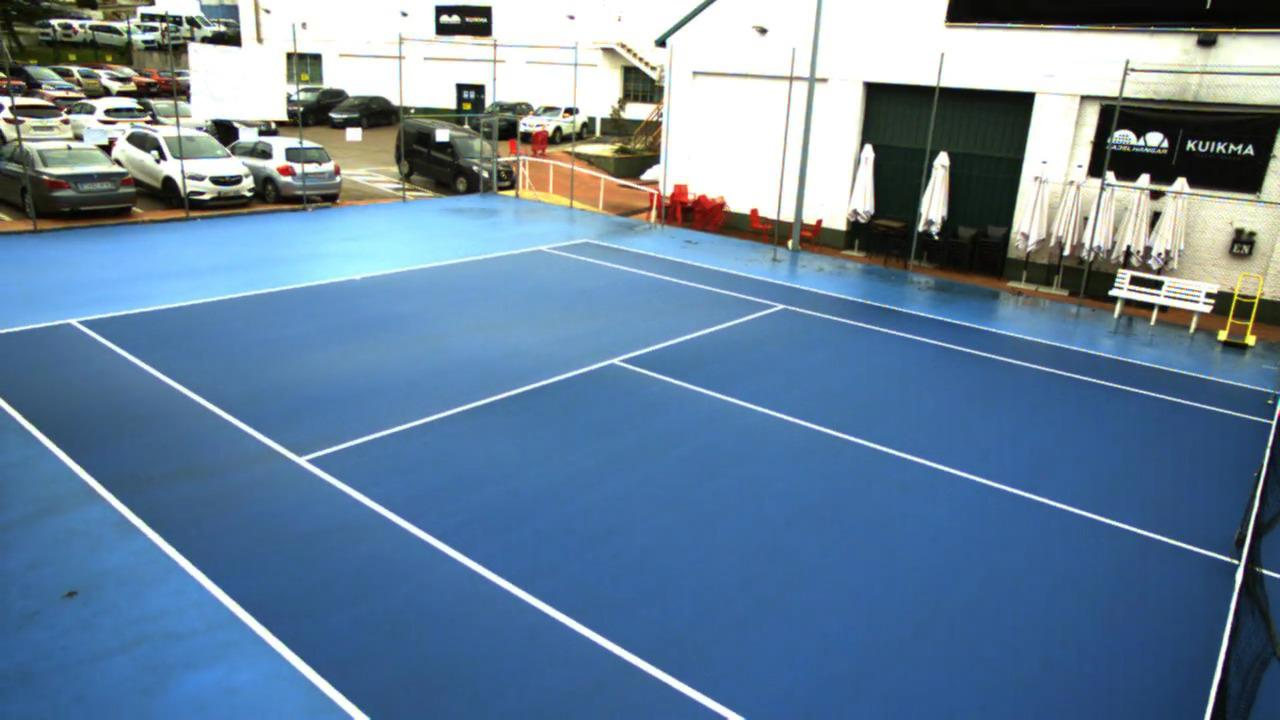cancha_tenis: (68, 246, 1280, 720)
point_f1: (63, 307, 89, 333)
point_f2: (533, 238, 556, 258)
point_fc1: (352, 269, 366, 283)
point_i1: (288, 446, 321, 469)
point_i2: (766, 296, 791, 316)
point_ic1: (604, 348, 634, 374)
